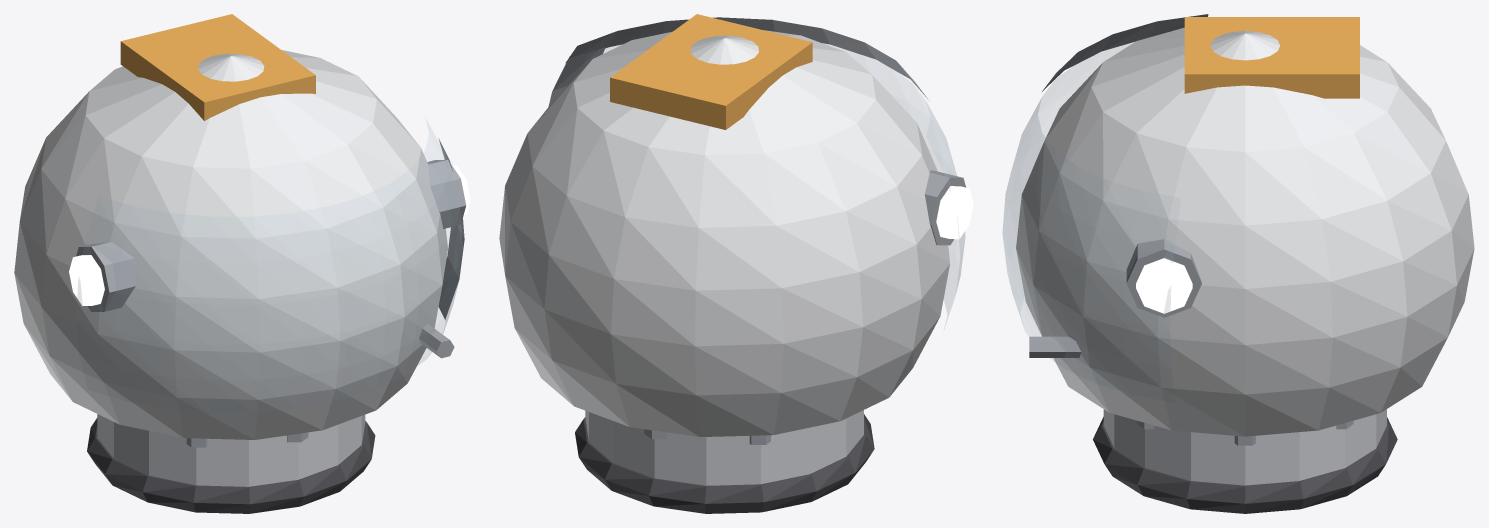
The model's file is prop_helmet.glb.
The picture shows the model from 3 angles, left to right: view 1: azimuth 30°, elevation 25°; view 2: azimuth 150°, elevation 25°; view 3: azimuth 270°, elevation 25°; orthographic projection. The views are drawn at different scales.
Parts seen in each view (by area): view 1: prop_helmet; view 2: prop_helmet; view 3: prop_helmet.
Part boxes in pixels (bbox=[...]): prop_helmet: bbox=[14, 14, 470, 513]; prop_helmet: bbox=[499, 14, 973, 513]; prop_helmet: bbox=[1002, 14, 1474, 513].
Bounding box in the file's own units: 0.3574 × 0.3433 × 0.3499.
